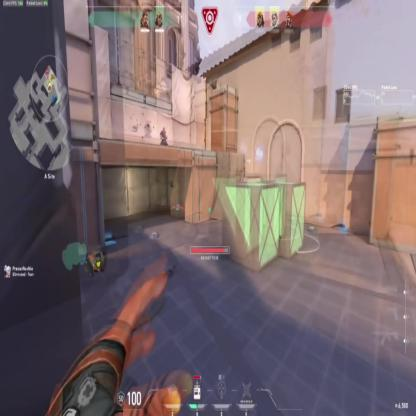enemy: (159, 125, 169, 148)
enemy_head: (162, 127, 165, 132)
